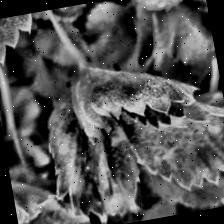Powdery Mildew Leaf: (65, 47, 204, 144)
